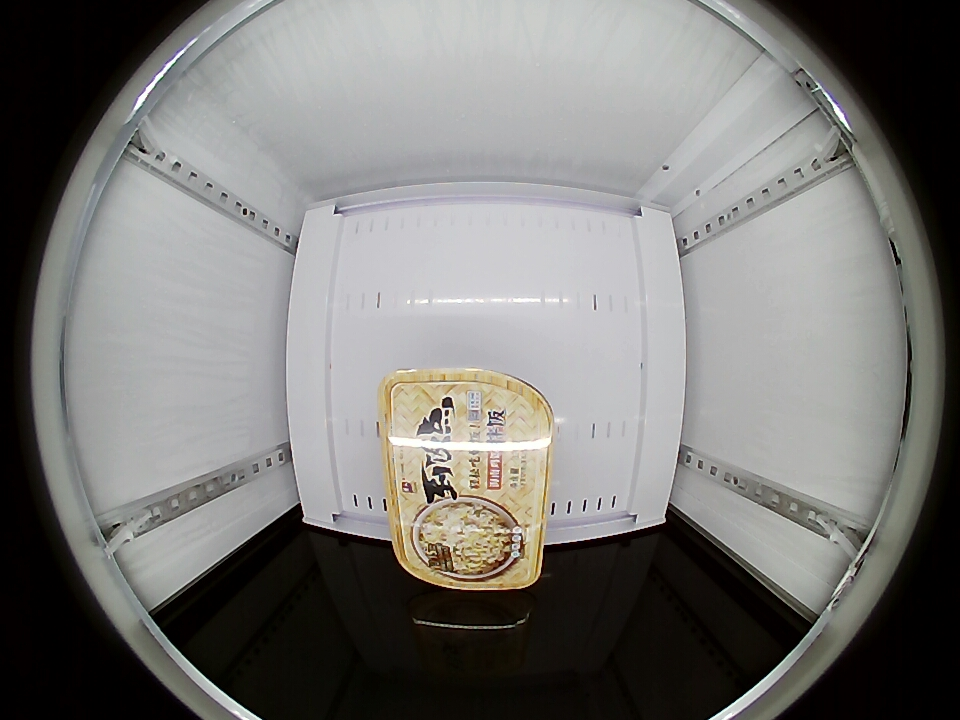daofandian1: (381, 368, 552, 593)
